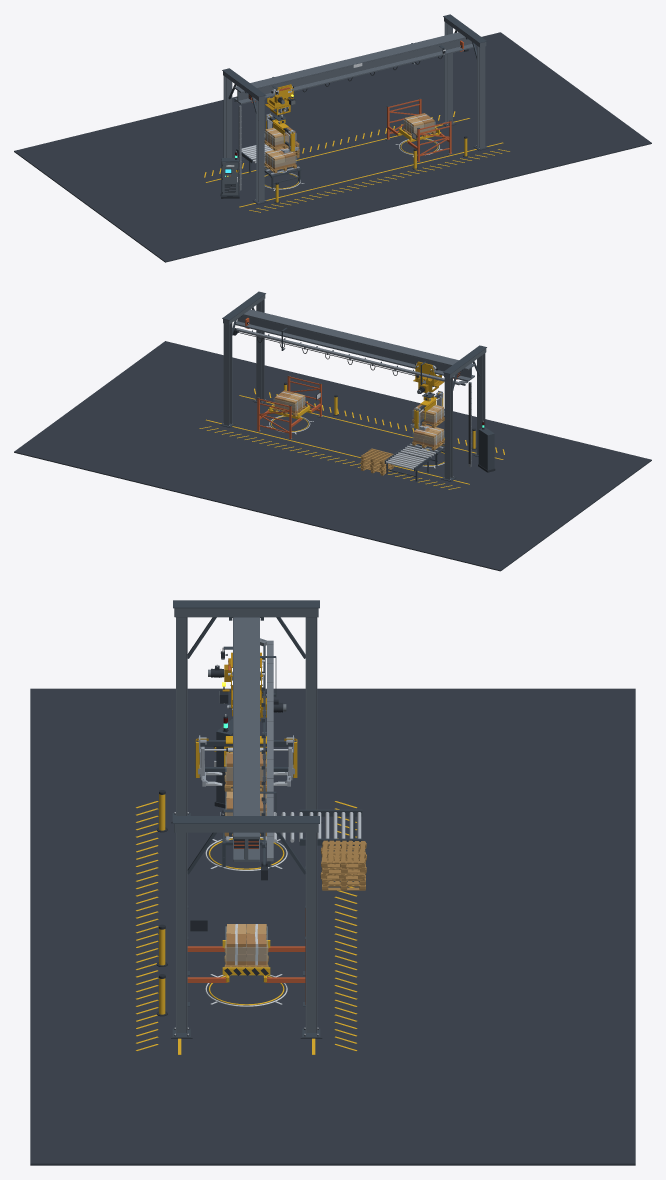
The model's file is transfer-carriage.glb.
3 renders of one model, top to bottom at view 1: azimuth 30°, elevation 25°; view 2: azimuth 150°, elevation 25°; view 3: azimuth 270°, elevation 25°, orthographic. The views are drawn at different scales.
Visible parts, largest first — view 1: Floor, RunwayGirder, LegEnd_A, LegHome_A, LegHome_B, LegEnd_B, CabinetDoor; view 2: Floor, RunwayGirder, LegEnd_B, LegHome_B, CableTrayRun, LegHome_A, LegEnd_A, CabinetBody, PalletWaiting; view 3: Floor, RunwayGirder, LegEnd_B, LegHome_B, LegEnd_A, LegHome_A, CrossHeadHome, CableTrayRun, CrossHeadCapHome, CrossHeadEnd, CrossHeadCapEnd, PalletPlaced (+1 smaller).
Part boxes in pixels (left/top/right/bottom): Floor: left=14, top=32, right=651, bottom=262; RunwayGirder: left=234, top=32, right=473, bottom=104; LegEnd_A: left=477, top=46, right=485, bottom=148; LegHome_A: left=256, top=100, right=264, bottom=202; LegHome_B: left=223, top=76, right=232, bottom=157; LegEnd_B: left=444, top=22, right=452, bottom=124; CabinetDoor: left=222, top=162, right=238, bottom=195; Floor: left=14, top=341, right=651, bottom=571; RunwayGirder: left=235, top=309, right=474, bottom=381; LegEnd_B: left=223, top=323, right=232, bottom=425; LegHome_B: left=444, top=377, right=452, bottom=479; CableTrayRun: left=236, top=328, right=460, bottom=385; LegHome_A: left=477, top=353, right=485, bottom=454; LegEnd_A: left=256, top=299, right=264, bottom=401; CabinetBody: left=478, top=427, right=494, bottom=470; PalletWaiting: left=412, top=429, right=444, bottom=447; Floor: left=30, top=688, right=635, bottom=1165; RunwayGirder: left=233, top=617, right=259, bottom=861; LegEnd_B: left=305, top=832, right=317, bottom=1035; LegHome_B: left=305, top=617, right=317, bottom=809; LegEnd_A: left=176, top=832, right=187, bottom=1035; LegHome_A: left=176, top=617, right=187, bottom=815; CrossHeadHome: left=174, top=608, right=318, bottom=617; CableTrayRun: left=267, top=640, right=273, bottom=861; CrossHeadCapHome: left=173, top=600, right=319, bottom=608; CrossHeadEnd: left=174, top=824, right=318, bottom=832; CrossHeadCapEnd: left=173, top=816, right=319, bottom=823; PalletPlaced: left=225, top=924, right=267, bottom=967.
Size of the model in its own units: 26 by 5.52 by 14.
